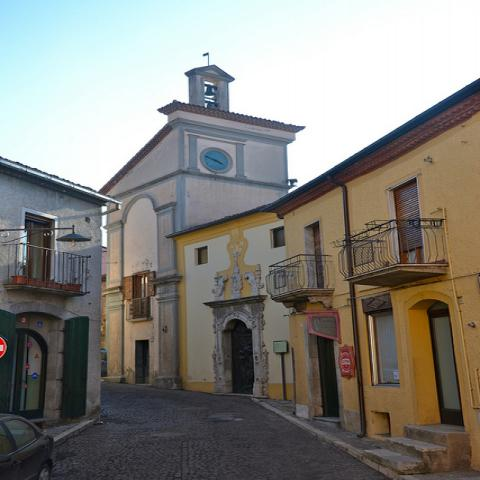car: (0, 414, 55, 479)
